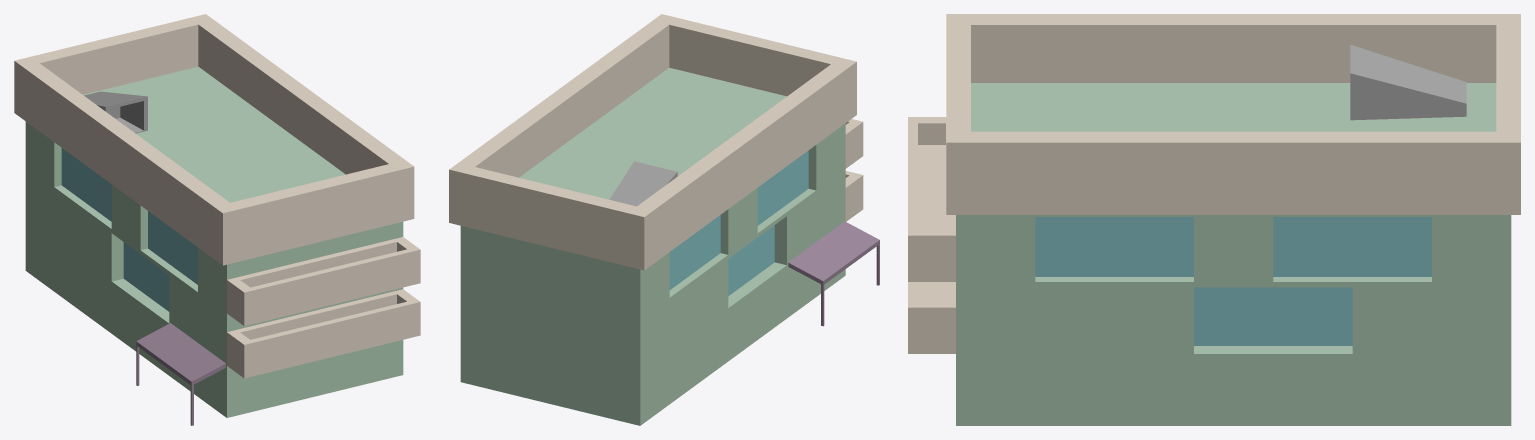
File: house_4.fbx
The picture shows the model from 3 angles, left to right: view 1: azimuth 30°, elevation 25°; view 2: azimuth 150°, elevation 25°; view 3: azimuth 270°, elevation 25°; orthographic projection. The views are drawn at different scales.
Parts seen in each view (by area): view 1: polySurface281; view 2: polySurface281; view 3: polySurface281.
Boxes of the visible parts, left/top/right/bottom form: polySurface281: left=14, top=14, right=420, bottom=425; polySurface281: left=449, top=14, right=879, bottom=425; polySurface281: left=908, top=14, right=1520, bottom=425.
Bounding box in the file's own units: 18.8 × 33.17 × 17.22.
